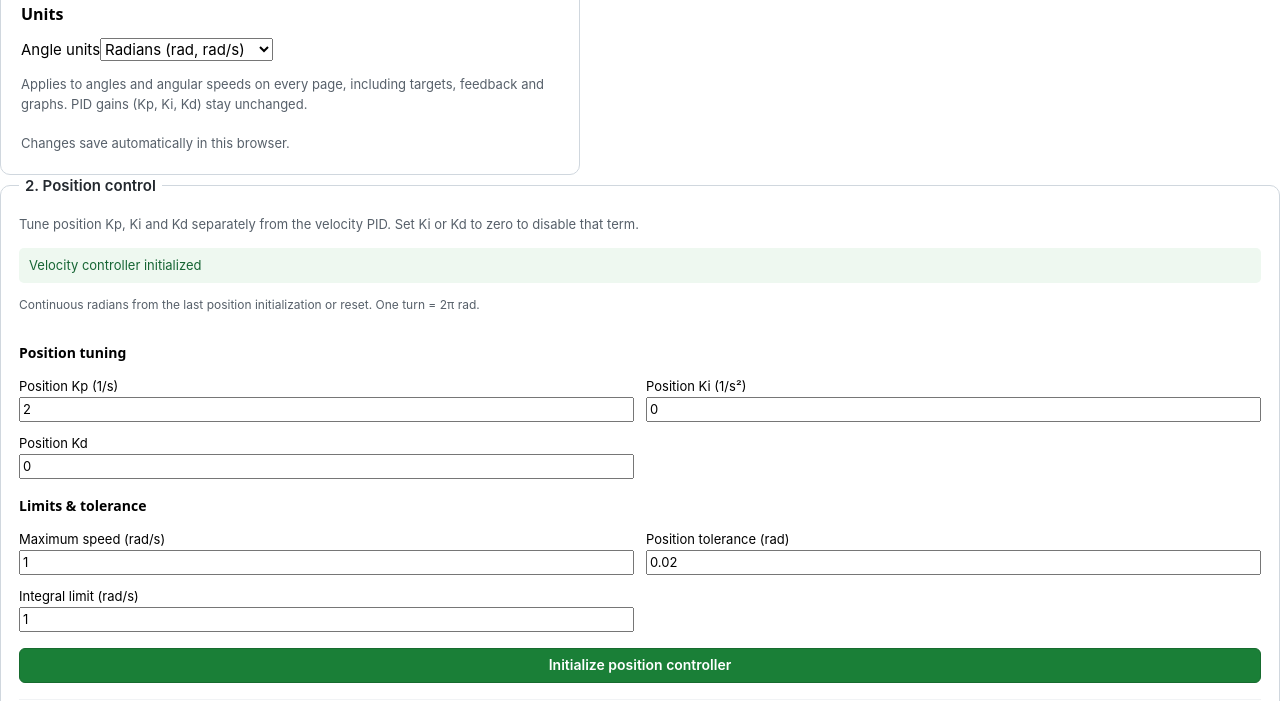
Scenario: position controls › awaits initialization ACK before enabling targets and displays rejected initialization
This screenshot has width=1280, height=701.
Step 1. Click the button "Initialize position controller" → (640, 665), box [19,648,1261,683]
(page scrolled)
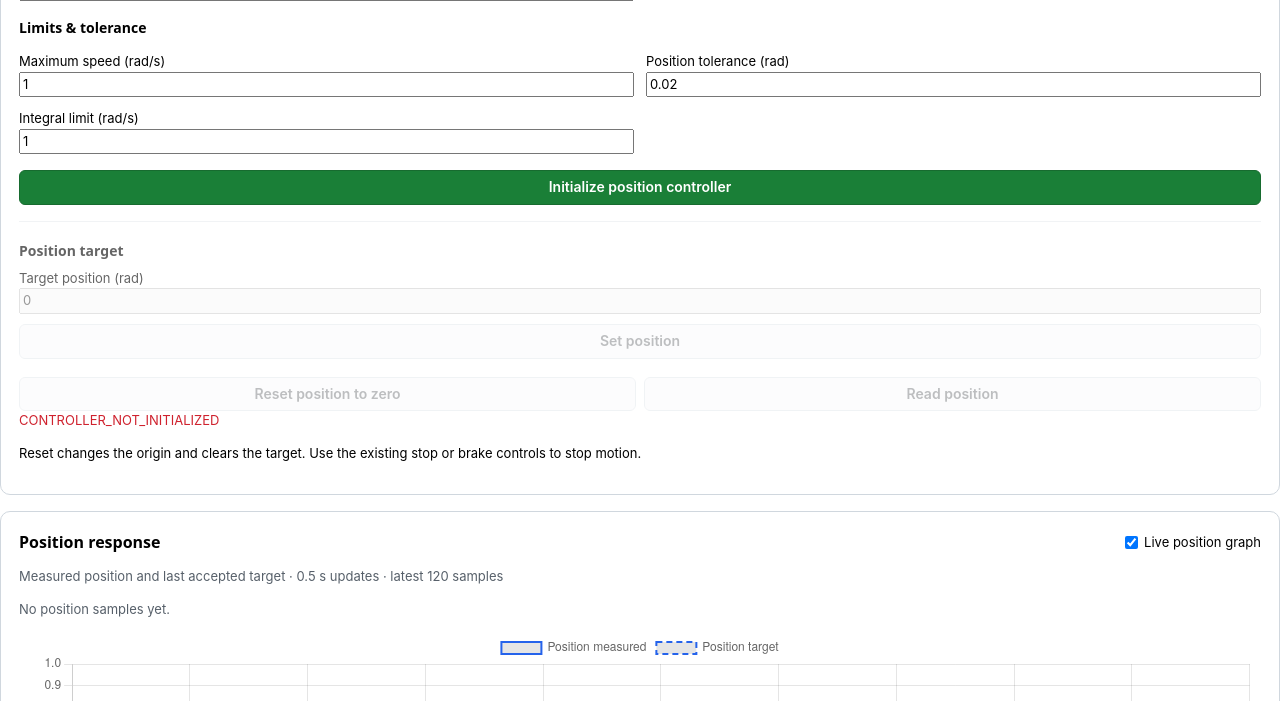
Expected: the button "Set position" is disabled, [19,324,1261,359]
Expected: the message reads "CONTROLLER_NOT_INITIALIZED", [19,412,219,428]
